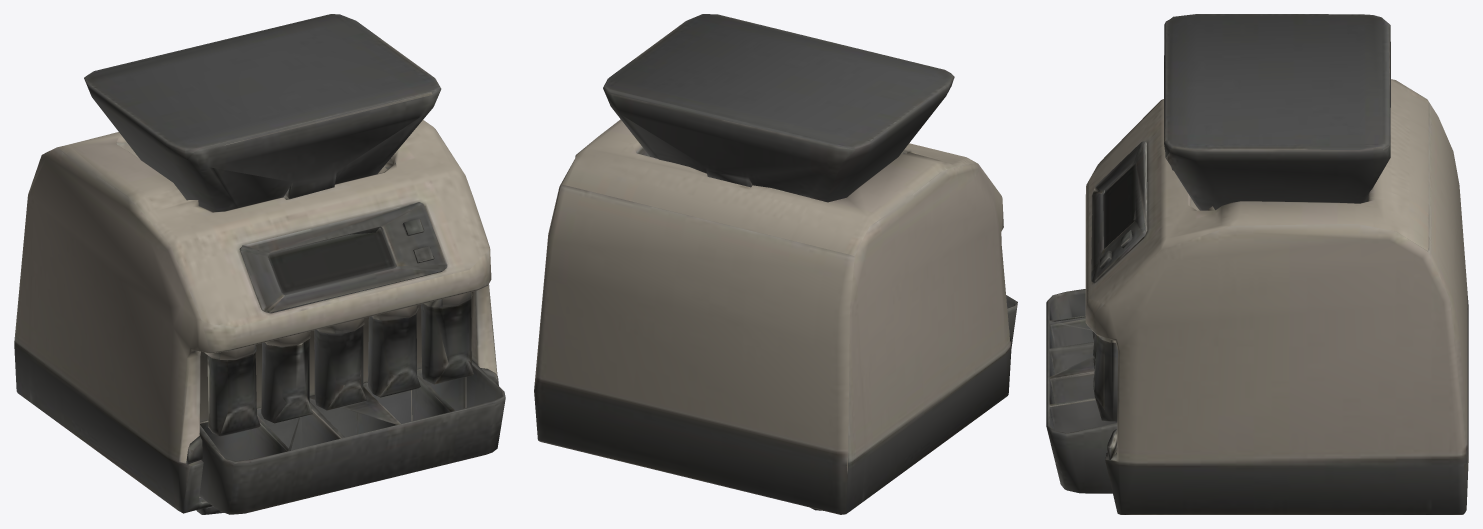
Rendered from p7-coin-counter-t25.glb.
The picture shows the model from 3 angles, left to right: view 1: azimuth 30°, elevation 25°; view 2: azimuth 150°, elevation 25°; view 3: azimuth 270°, elevation 25°; orthographic projection. The views are drawn at different scales.
Parts seen in each view (by area): view 1: p7-coin-counter-t25; view 2: p7-coin-counter-t25; view 3: p7-coin-counter-t25.
Boxes of the visible parts, x1=… form: p7-coin-counter-t25: x1=14, y1=14, x2=505, y2=514; p7-coin-counter-t25: x1=534, y1=14, x2=1017, y2=514; p7-coin-counter-t25: x1=1046, y1=14, x2=1468, y2=514.
Bounding box in the file's own units: 0.343 × 0.35 × 0.369.
1 material, 1 textured.
